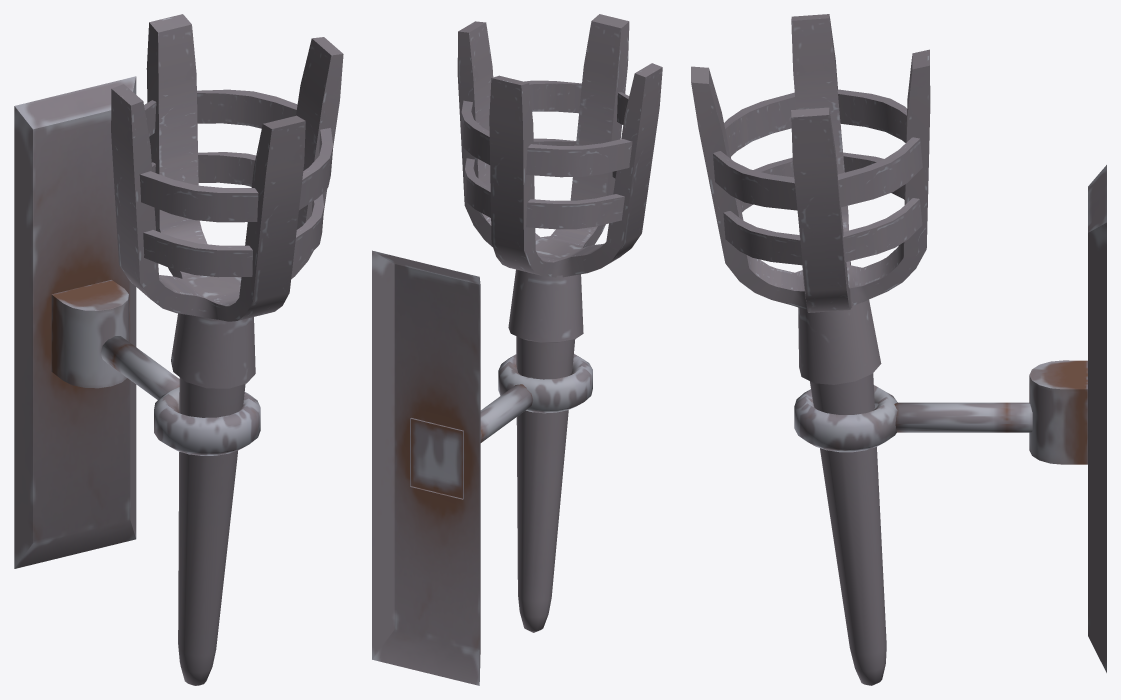
File: Torch_Metal.gltf
3 views of the same model, side by side, from view 1: azimuth 30°, elevation 25°; view 2: azimuth 150°, elevation 25°; view 3: azimuth 270°, elevation 25° (orthographic). The views are drawn at different scales.
Visible parts, largest first — view 1: Torch_Metal; view 2: Torch_Metal; view 3: Torch_Metal.
Part boxes in pixels (<box>): Torch_Metal: <box>14,14,343,685</box>; Torch_Metal: <box>372,14,662,685</box>; Torch_Metal: <box>691,14,1106,685</box>.
Size of the model in its own units: 0.2232 by 0.6482 by 0.3884.
Materials: 1 (1 with a texture image).
